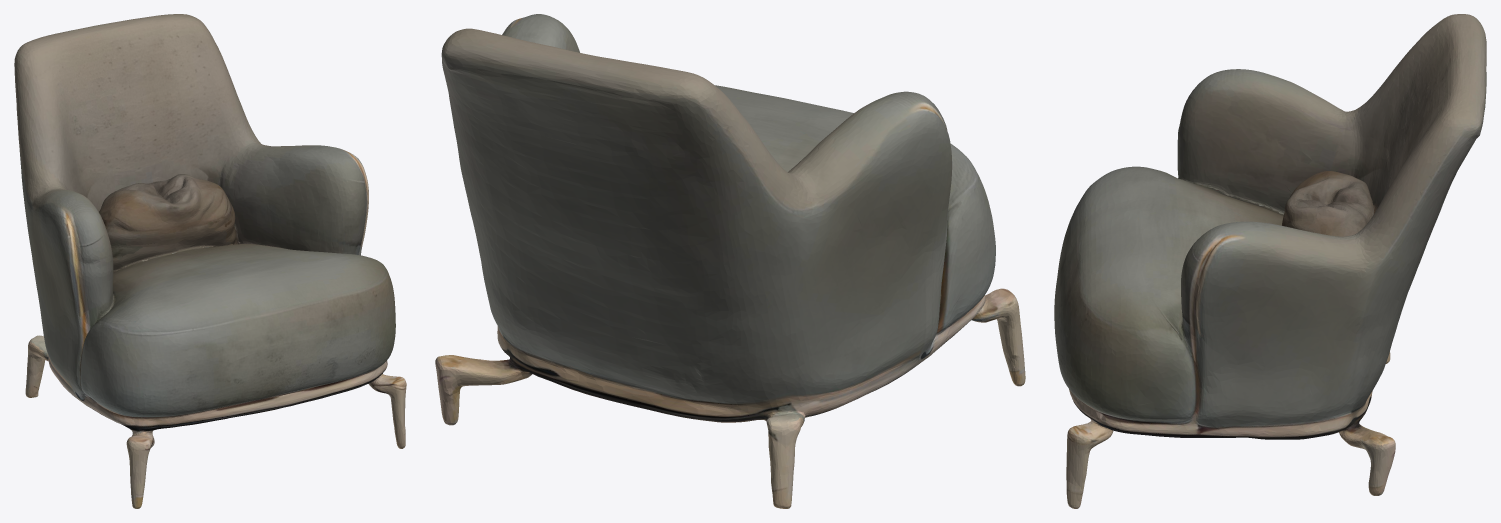
The model's file is c09_armchair_s0.glb.
3 views of the same model, side by side, from view 1: azimuth 30°, elevation 25°; view 2: azimuth 150°, elevation 25°; view 3: azimuth 270°, elevation 25° (orthographic). The views are drawn at different scales.
Visible parts, largest first — view 1: textured.obj; view 2: textured.obj; view 3: textured.obj.
Boxes of the visible parts, <box> form: textured.obj: <box>14,14,406,508</box>; textured.obj: <box>435,14,1025,508</box>; textured.obj: <box>1054,14,1486,508</box>.
Size of the model in its own units: 1.86 by 1.93 by 1.99.
Materials: 1 (1 with a texture image).
